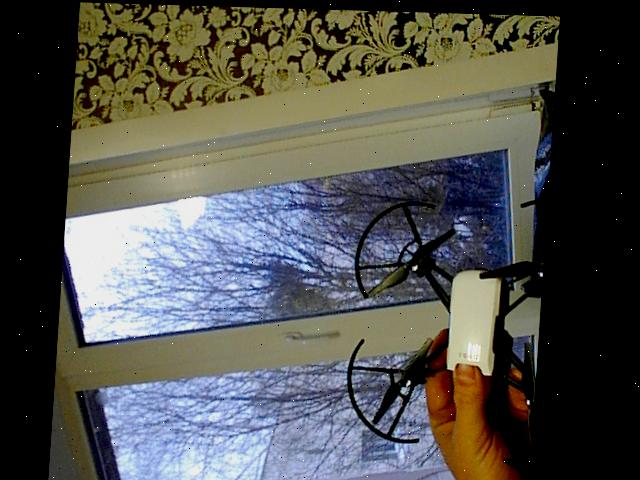drone: (343, 189, 550, 455)
